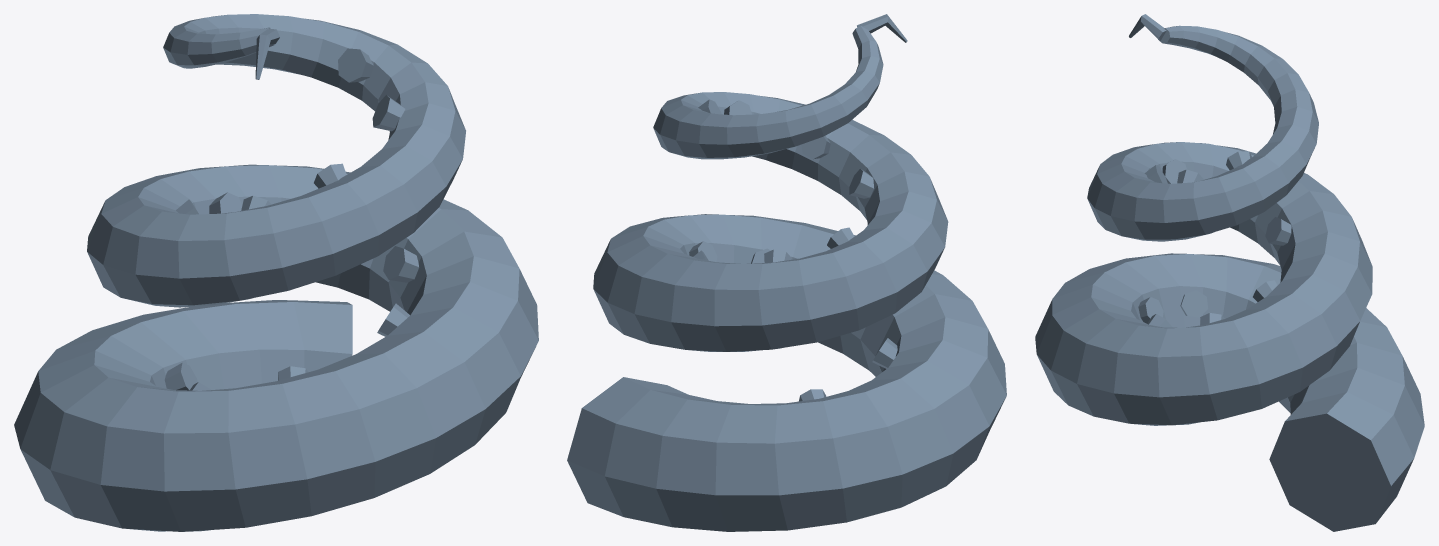
The model's file is LeviathanTentacle.fbx.
3 views of the same model, side by side, from view 1: azimuth 30°, elevation 25°; view 2: azimuth 150°, elevation 25°; view 3: azimuth 270°, elevation 25° (orthographic). The views are drawn at different scales.
Visible parts, largest first — view 1: LeviathanTentacle; view 2: LeviathanTentacle; view 3: LeviathanTentacle.
Boxes of the visible parts, box(x1,y1,x2,y2) form: LeviathanTentacle: box(14, 14, 538, 531); LeviathanTentacle: box(567, 14, 1006, 531); LeviathanTentacle: box(1035, 14, 1424, 531).
Bounding box in the file's own units: 1622 × 1887 × 1503.
